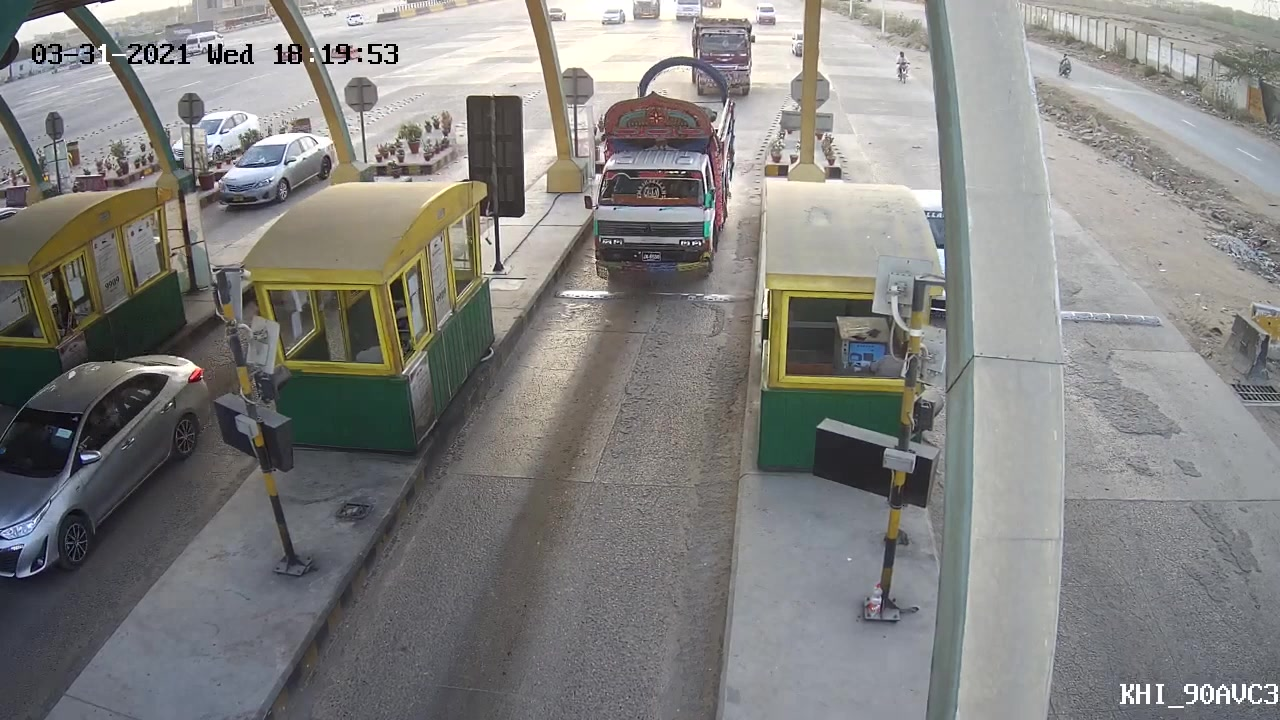F5: (581, 82, 749, 301)
